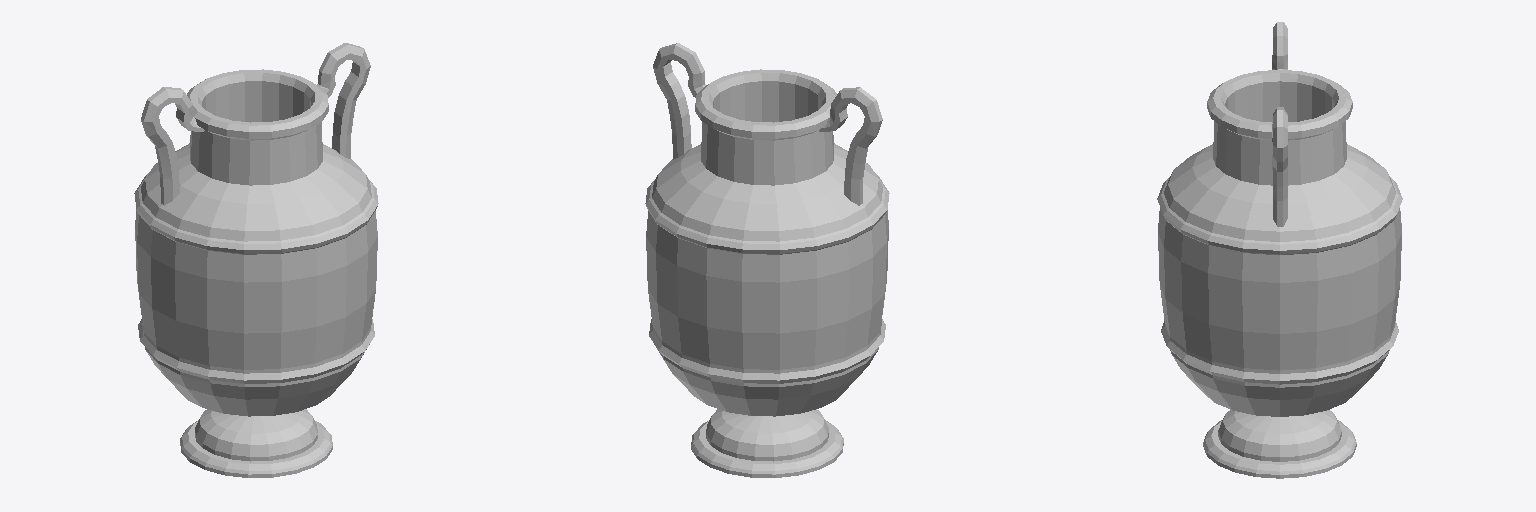
The model's file is pottery.obj.
The picture shows the model from 3 angles: view 1: azimuth 30°, elevation 25°; view 2: azimuth 150°, elevation 25°; view 3: azimuth 270°, elevation 25°; orthographic projection.
Parts seen in each view (by area): view 1: default; view 2: default; view 3: default.
Part boxes in pixels (bbox=[...]): default: bbox=[134, 43, 378, 477]; default: bbox=[645, 43, 889, 477]; default: bbox=[1157, 22, 1402, 478].
Bounding box in the file's own units: 3.41 × 5.46 × 3.19.